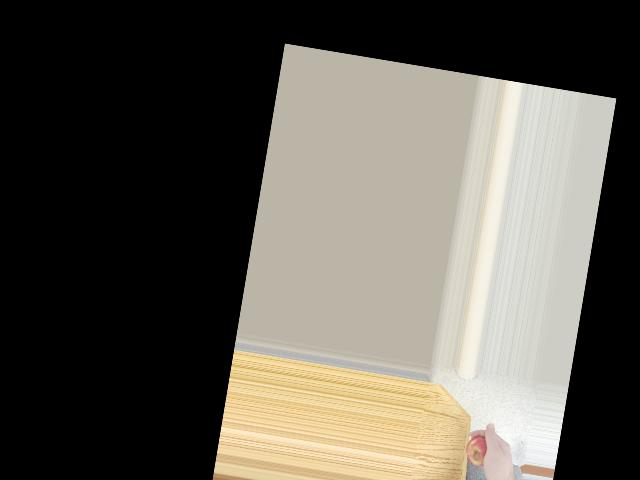apple: (464, 434, 497, 469)
